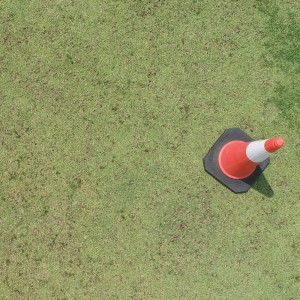traffic cone: (203, 128, 283, 192)
